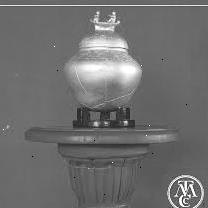manunggul_jar: (49, 9, 151, 115)
